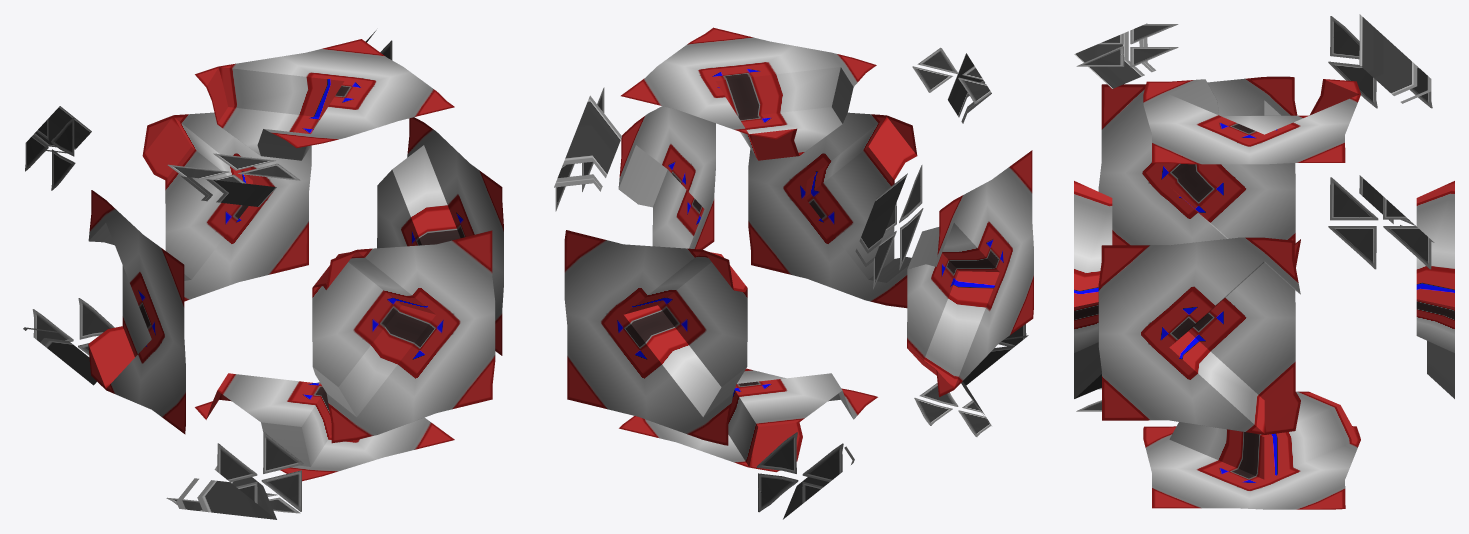
The model's file is hyper_energy_sender.obj.
3 renders of one model, left to right at view 1: azimuth 30°, elevation 25°; view 2: azimuth 150°, elevation 25°; view 3: azimuth 270°, elevation 25°, orthographic. The views are drawn at different scales.
Parts seen in each view (by area): view 1: Cube; view 2: Cube; view 3: Cube.
Part boxes in pixels (<box>): Cube: <box>23,30,503,519</box>; Cube: <box>554,27,1033,519</box>; Cube: <box>1074,14,1454,509</box>.
Bounding box in the file's own units: 1 × 1 × 1.
